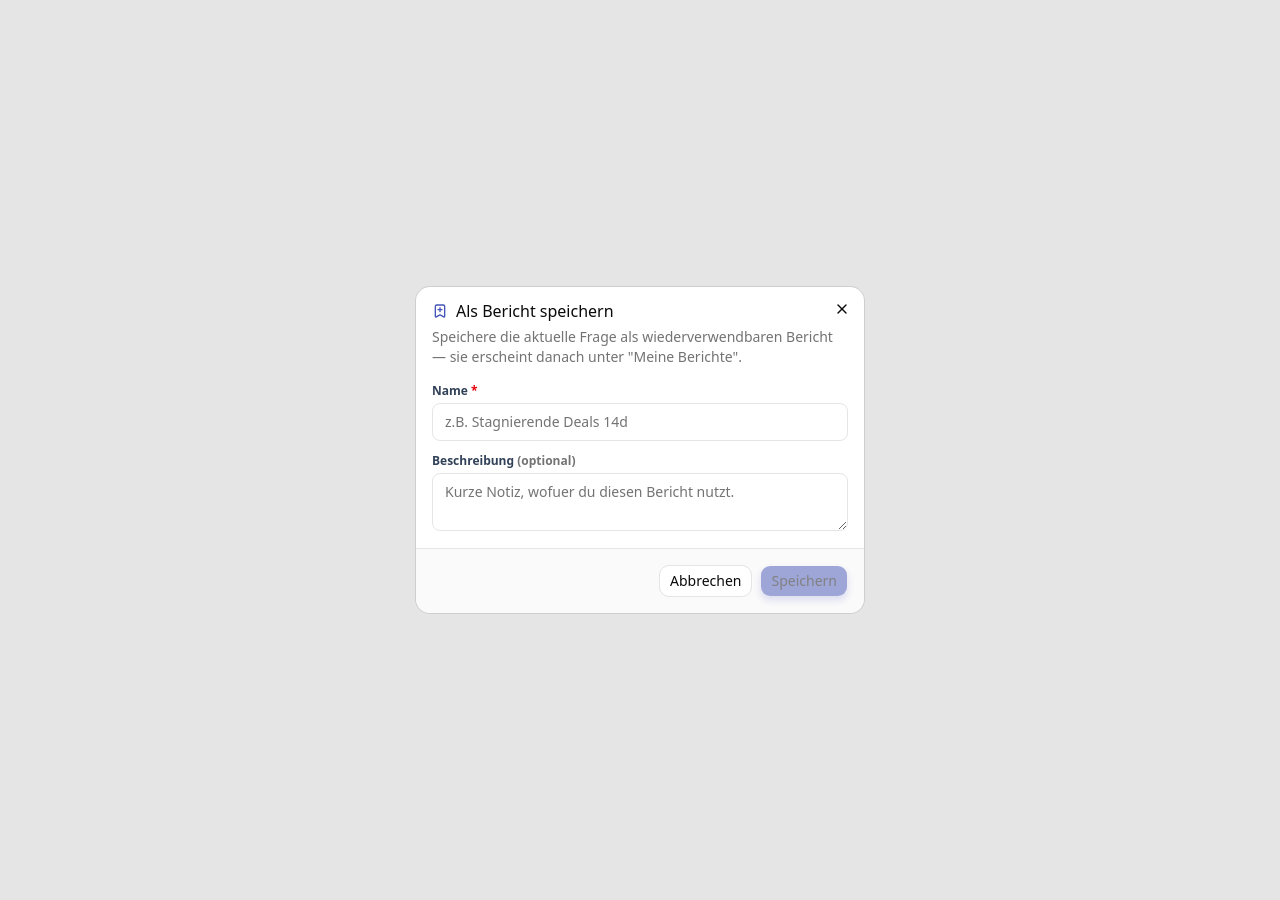
Scenario: SaveCustomReportModal › Submit-Button is disabled while name is too short (<2 chars)
Expected: the button with test id "save-custom-report-submit" is disabled, [760,565,848,597]
Type "A" into the field with test id "save-custom-report-name" at (640, 422), box [432,403,848,441]
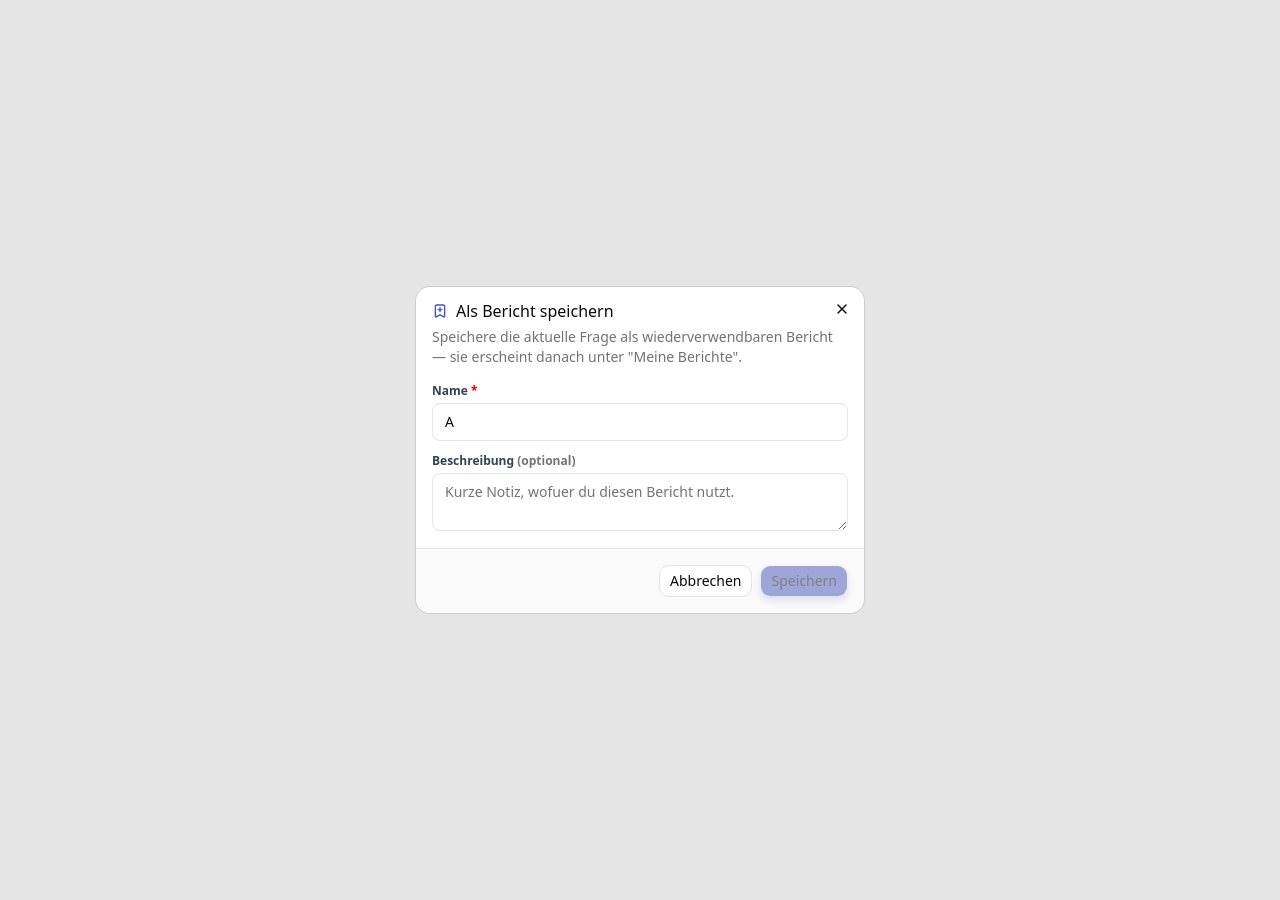
Expected: the button with test id "save-custom-report-submit" is disabled, [760,565,848,597]
Replace the text in the field with test id "save-custom-report-name" with "Ab" at (640, 422), box [432,403,848,441]
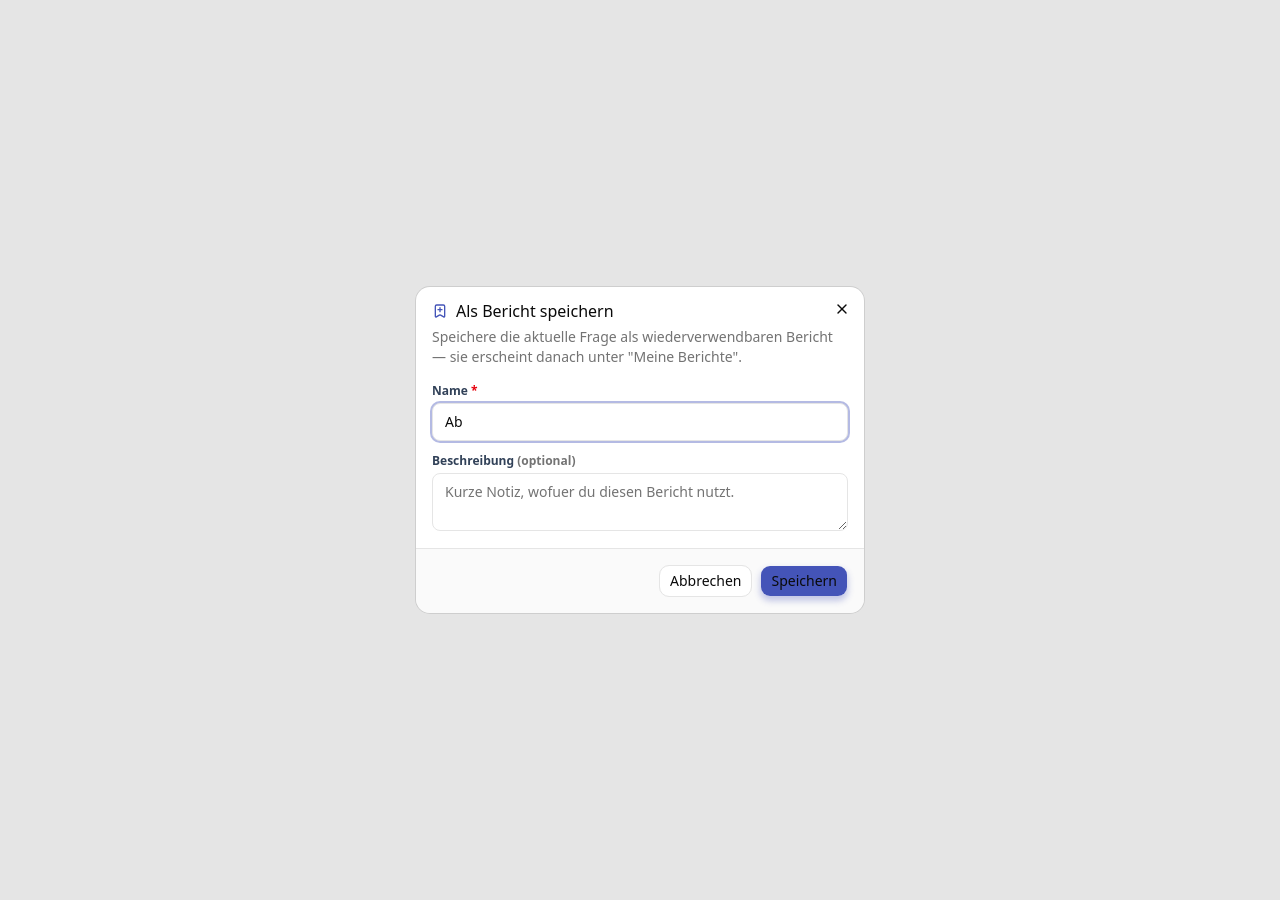
Now the button with test id "save-custom-report-submit" is enabled, box [760,565,848,597]
